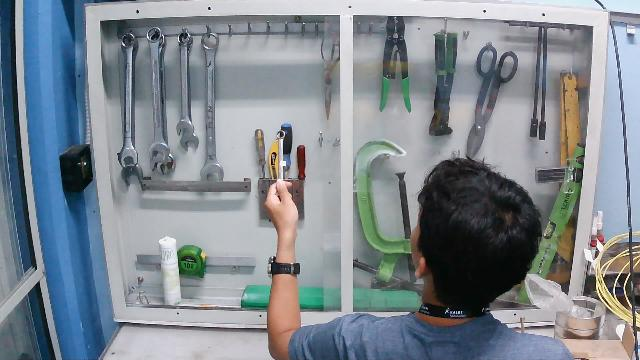kunci_pass_13: (265, 126, 303, 219)
